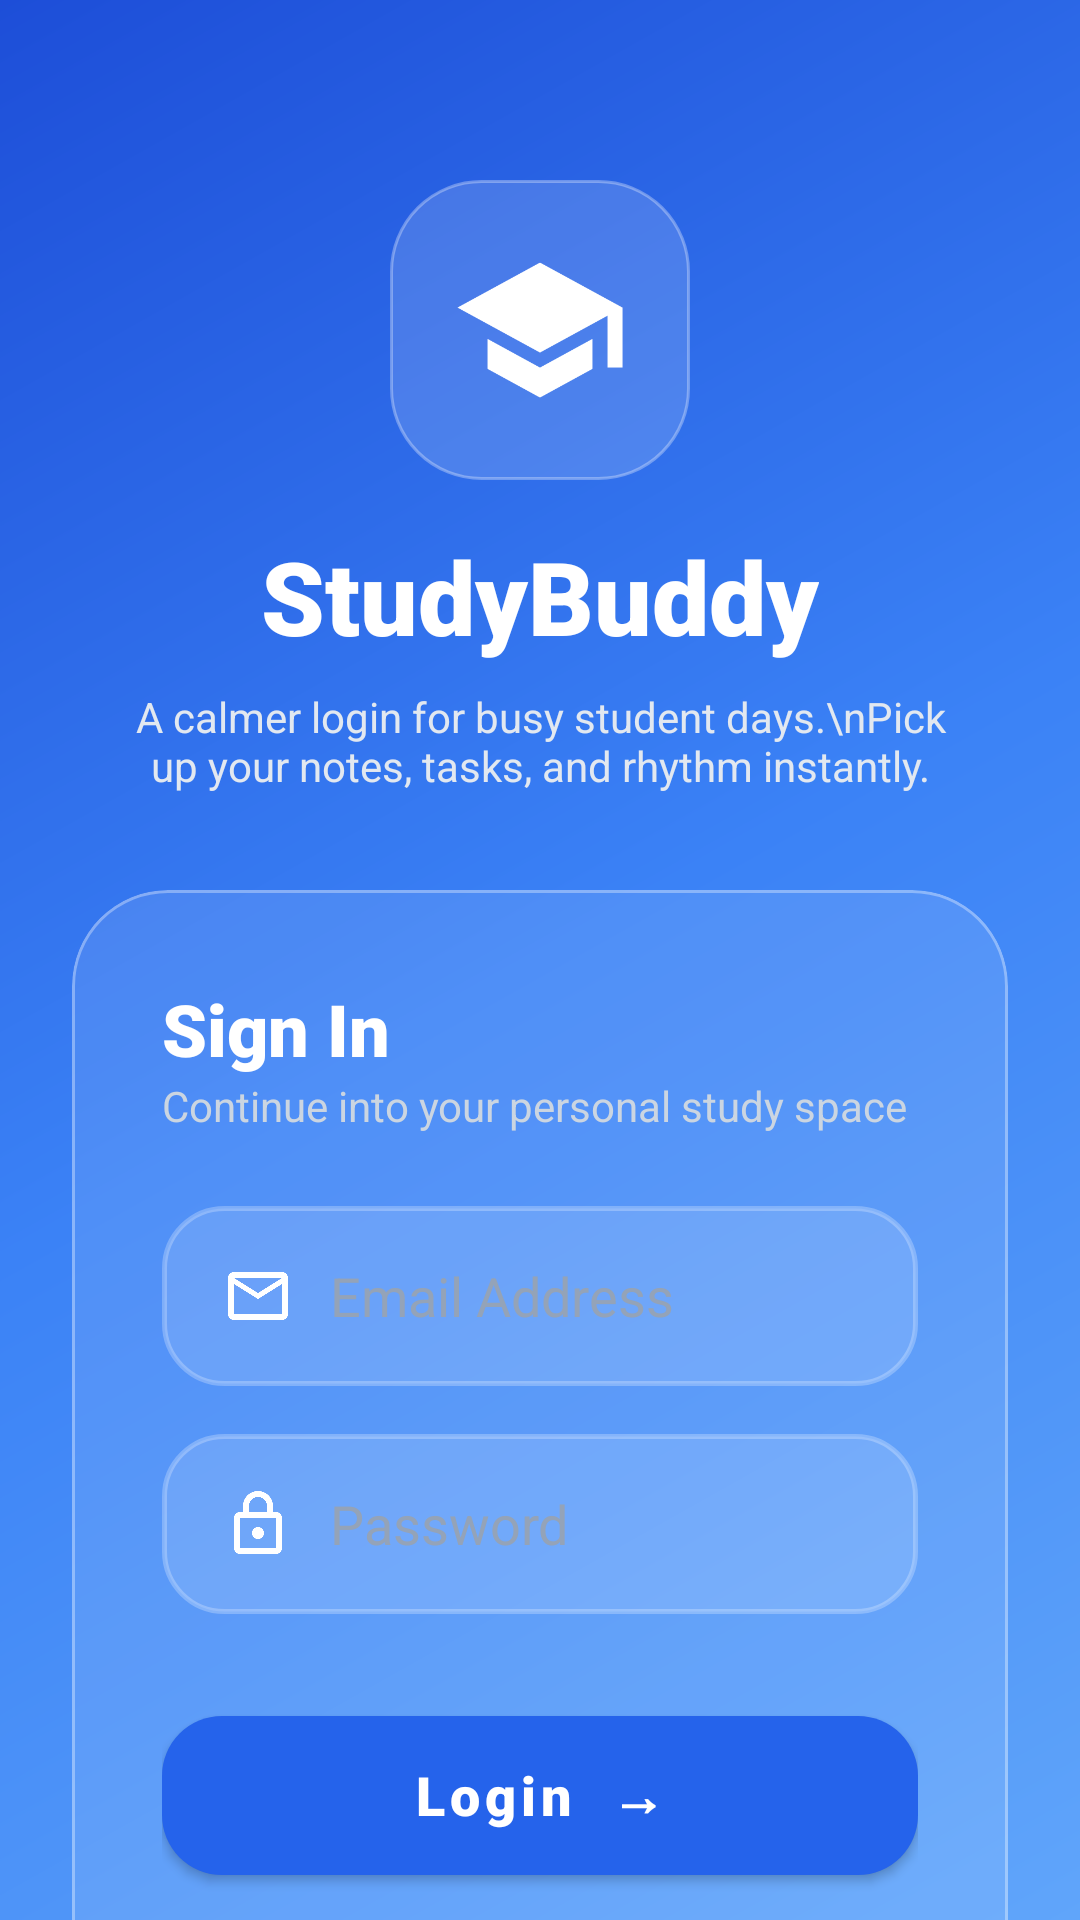

Icons on this 1080*1920 Android screen, each with the point to tap as (x,y):
school: (540,330)
